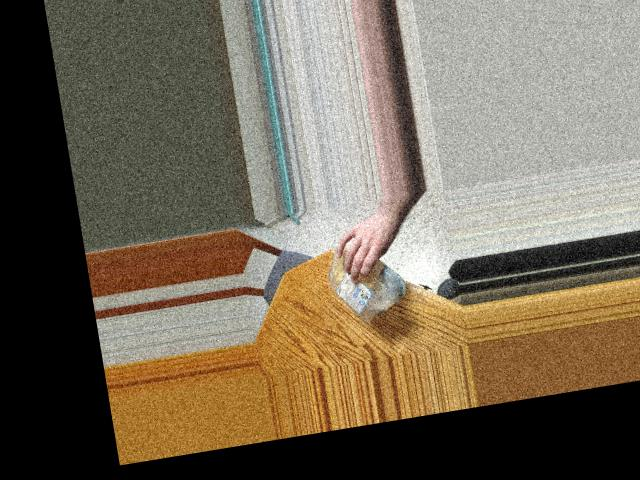cheese: (318, 223, 407, 329)
